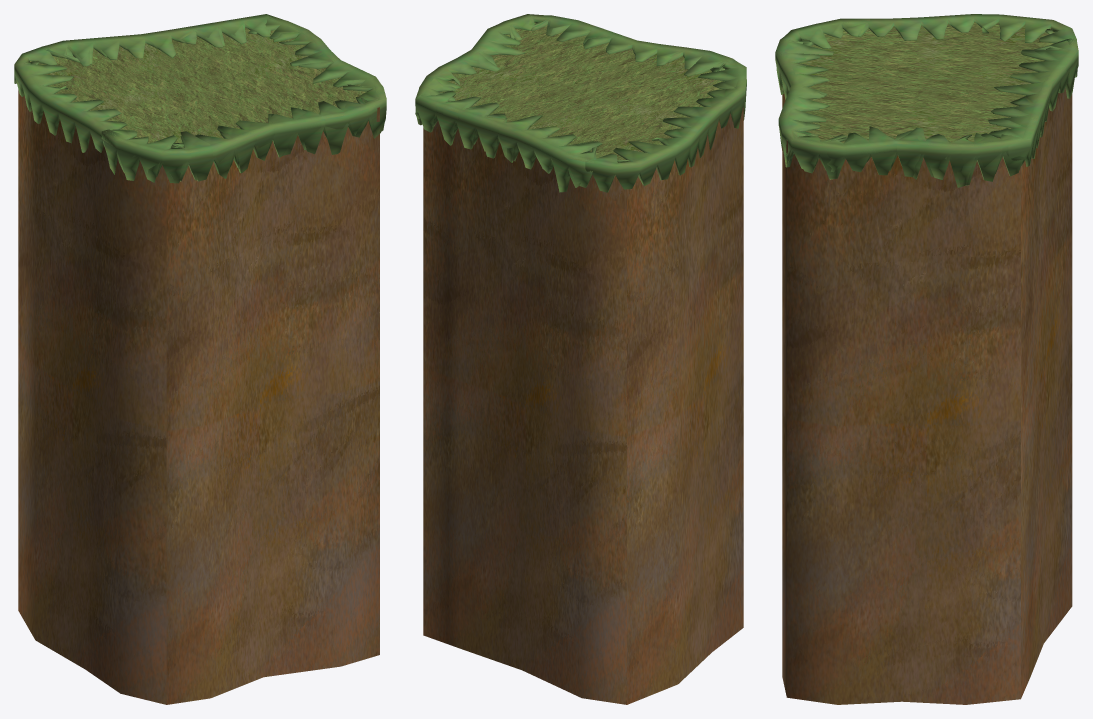
File: Two_level_cliff_02.FBX
3 renders of one model, left to right at view 1: azimuth 30°, elevation 25°; view 2: azimuth 150°, elevation 25°; view 3: azimuth 270°, elevation 25°, orthographic. The views are drawn at different scales.
Parts seen in each view (by area): view 1: Box004, Box007; view 2: Box004, Box007; view 3: Box004, Box007.
Part boxes in pixels (x1=…): Box004: x1=18, y1=27, x2=379, y2=704; Box007: x1=14, y1=14, x2=386, y2=183; Box004: x1=423, y1=22, x2=743, y2=704; Box007: x1=415, y1=14, x2=746, y2=192; Box004: x1=782, y1=22, x2=1072, y2=704; Box007: x1=775, y1=14, x2=1078, y2=187.
Bounding box in the file's own units: 1.3 × 2.54 × 1.24.
